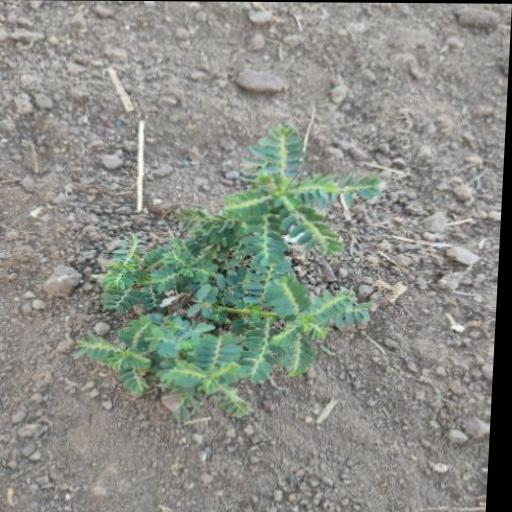weed: (96, 121, 427, 411)
